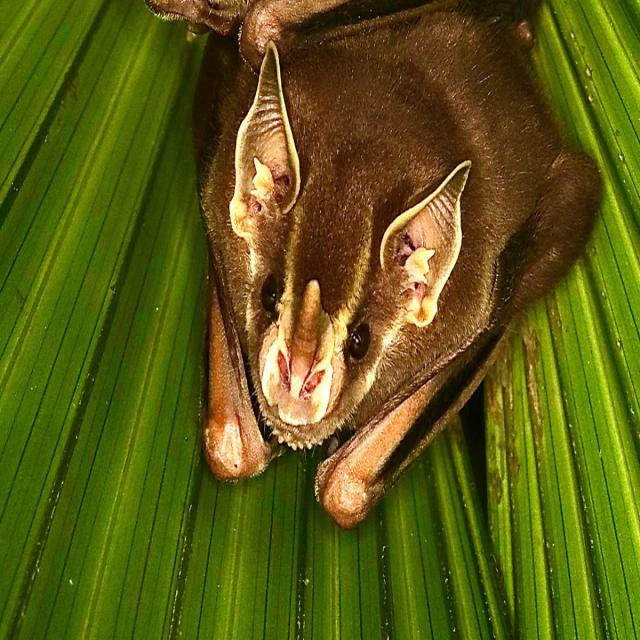Bat: (140, 0, 594, 525)
